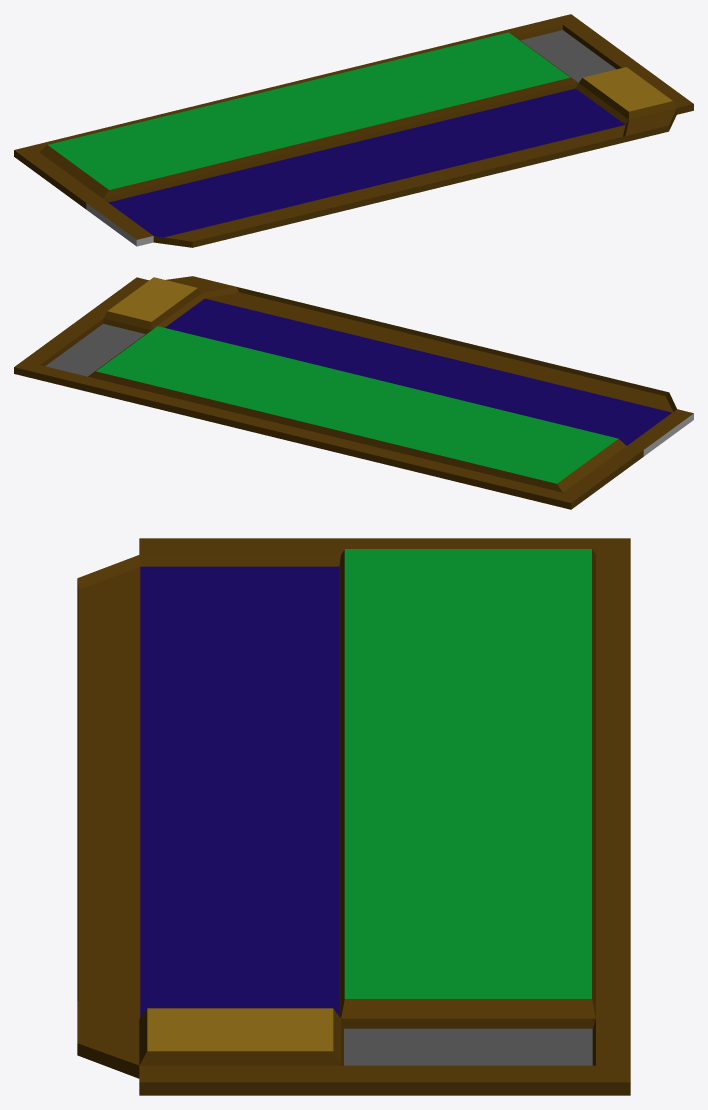
File: playmat_Greybox.fbx
The picture shows the model from 3 angles, top to bottom: view 1: azimuth 30°, elevation 25°; view 2: azimuth 150°, elevation 25°; view 3: azimuth 270°, elevation 25°; orthographic projection. The views are drawn at different scales.
Visible parts, largest first — view 1: playMat_template; view 2: playMat_template; view 3: playMat_template.
Part boxes in pixels (x1=…): playMat_template: x1=14, y1=14, x2=693, y2=247; playMat_template: x1=14, y1=276, x2=693, y2=509; playMat_template: x1=77, y1=538, x2=630, y2=1095.
Size of the model in its own units: 0.9792 by 0.0219 by 0.4211.
